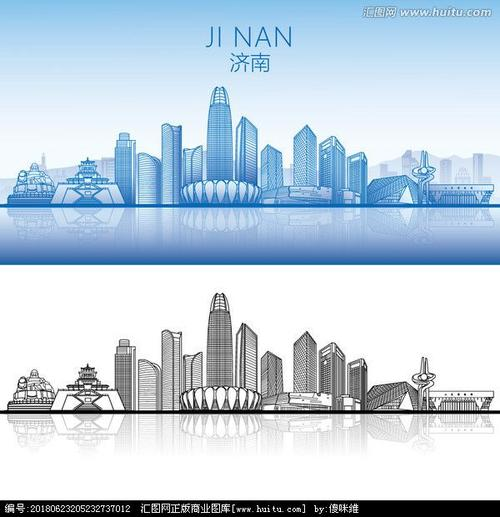buildings: (44, 61, 468, 241), (166, 74, 345, 239), (163, 282, 285, 419)
